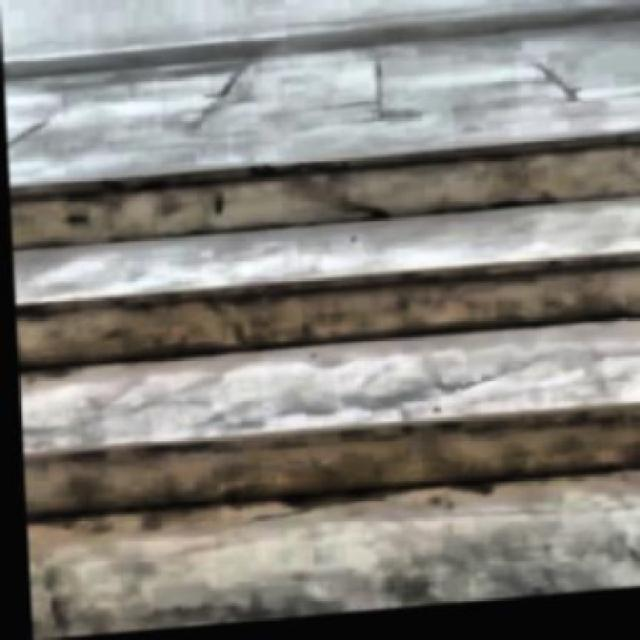stair: (7, 134, 638, 638)
